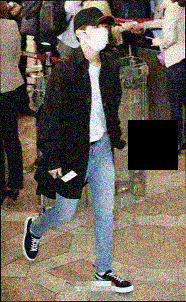with_mask: (86, 24, 110, 53)
